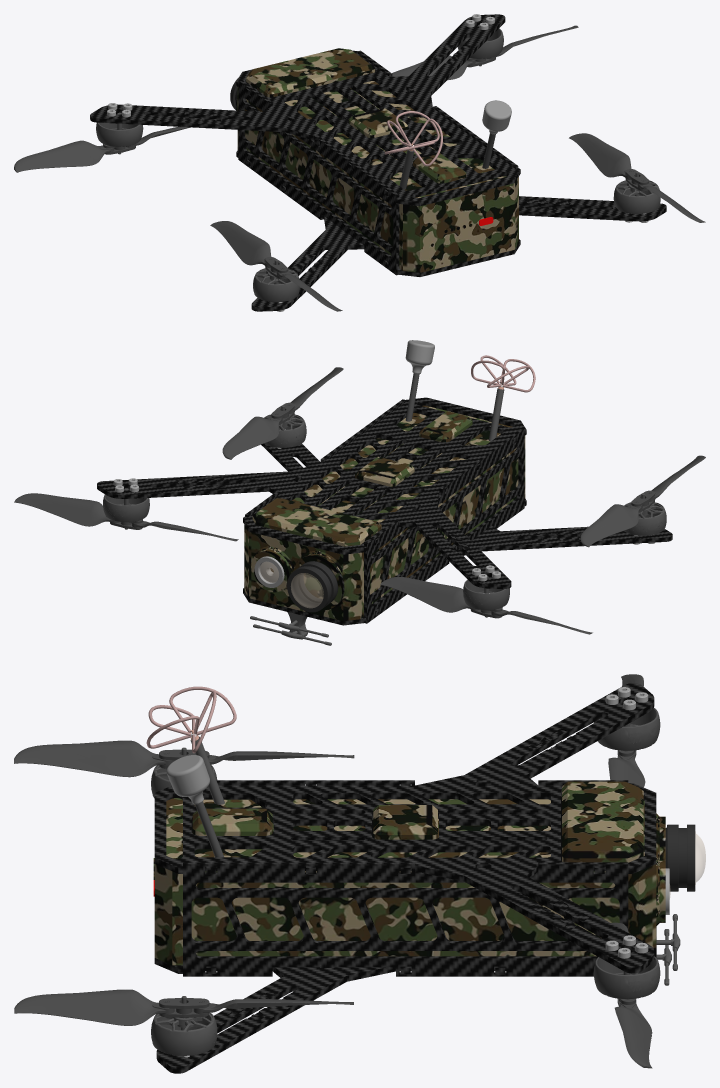
The model's file is mini.glb.
3 views of the same model, one above another, from view 1: azimuth 30°, elevation 25°; view 2: azimuth 150°, elevation 25°; view 3: azimuth 270°, elevation 25° (orthographic). The views are drawn at different scales.
Parts seen in each view (by area): view 1: UP, Body9.023, Body1.055, Body1.049, Body1.051, Body1.025, Body1.024, Body1.027, Body1.129, Body1.050, Body1.048, Body1.026 (+1 smaller); view 2: UP, Body9.023, Body1.053, Body1.054, Body1.085, Body1.051, Body1.049, Body1.026, Body1.027, Body1.025, Body1.086, Body6.026 (+7 smaller); view 3: UP, Body9.023, Body1.048, Body1.050, Body1.024, Body1.026, Body1.085, Body1.053, Body1.129, Body1.027, Body1.049, Body1.051 (+2 smaller).
Boxes of the visible parts, x1,y1,x2,y2 form: UP: (90,14,666,311); Body9.023: (235,48,518,272); Body1.055: (14,140,134,172); Body1.049: (569,133,648,190); Body1.051: (210,221,287,278); Body1.025: (253,268,299,302); Body1.024: (613,180,660,214); Body1.027: (96,122,143,146); Body1.129: (482,100,511,134); Body1.050: (265,257,342,311); Body1.048: (625,169,705,222); Body1.026: (457,28,503,58); UP: (97,397,672,625); Body9.023: (244,405,525,621); Body1.053: (14,493,142,529); Body1.054: (380,577,502,618); Body1.085: (287,561,338,612); Body1.051: (580,490,655,547); Body1.049: (222,403,294,459); Body1.026: (103,494,149,522); Body1.027: (463,579,509,610); Body1.025: (624,502,666,535); Body1.086: (291,573,323,607); Body6.026: (250,612,331,645); UP: (154,683,656,1073); Body9.023: (153,781,665,965); Body1.048: (14,989,208,1025); Body1.050: (14,740,208,777); Body1.024: (151,1012,217,1055); Body1.026: (593,956,660,999); Body1.085: (665,824,695,891); Body1.053: (614,998,652,1068); Body1.129: (166,755,209,804); Body1.027: (594,708,660,750); Body1.049: (159,998,353,1017); Body1.051: (159,749,354,768).
Bounding box in the file's own units: 24.12 × 7 × 18.
Materials: 20 (2 with a texture image).
